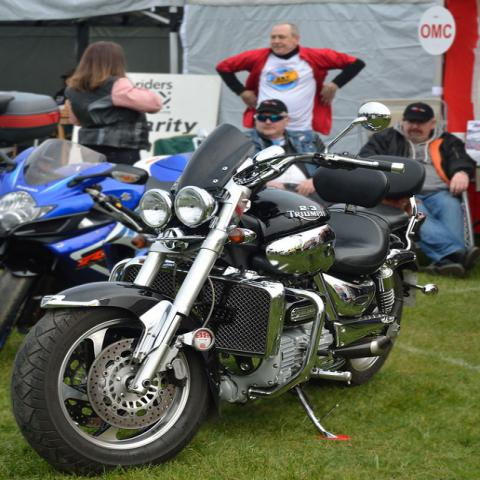motorcycle: (11, 105, 422, 473), (3, 146, 187, 355)
